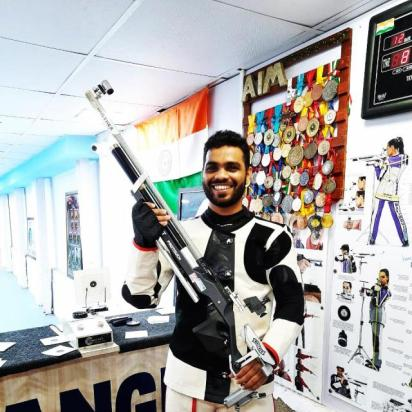Gun: (83, 77, 277, 412)
